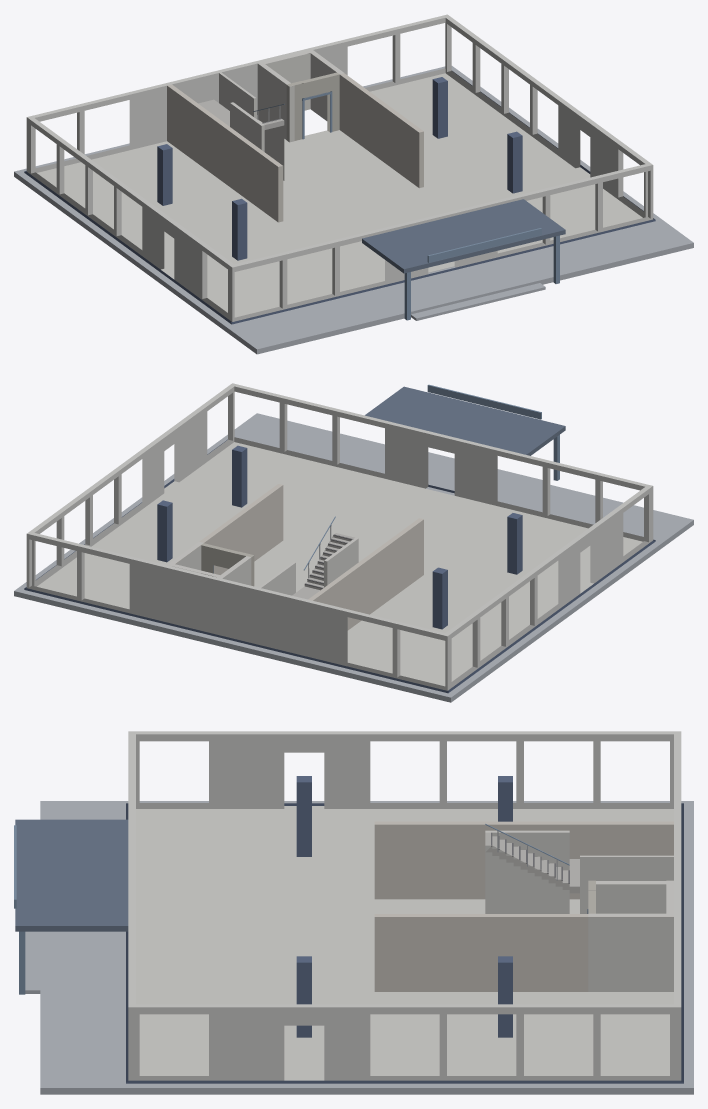
Rendered from office-lobby.shaft-v1.lod0.glb.
3 views of the same model, one above another, from view 1: azimuth 30°, elevation 25°; view 2: azimuth 150°, elevation 25°; view 3: azimuth 270°, elevation 25° (orthographic). The views are drawn at different scales.
Visible parts, largest first — view 1: office-lobby; view 2: office-lobby; view 3: office-lobby.
Boxes of the visible parts, x1,y1,x2,y2 form: office-lobby: (14,14,693,354); office-lobby: (14,383,693,702); office-lobby: (14,731,693,1094).
Size of the model in its own units: 27 by 4.89 by 27.05.
